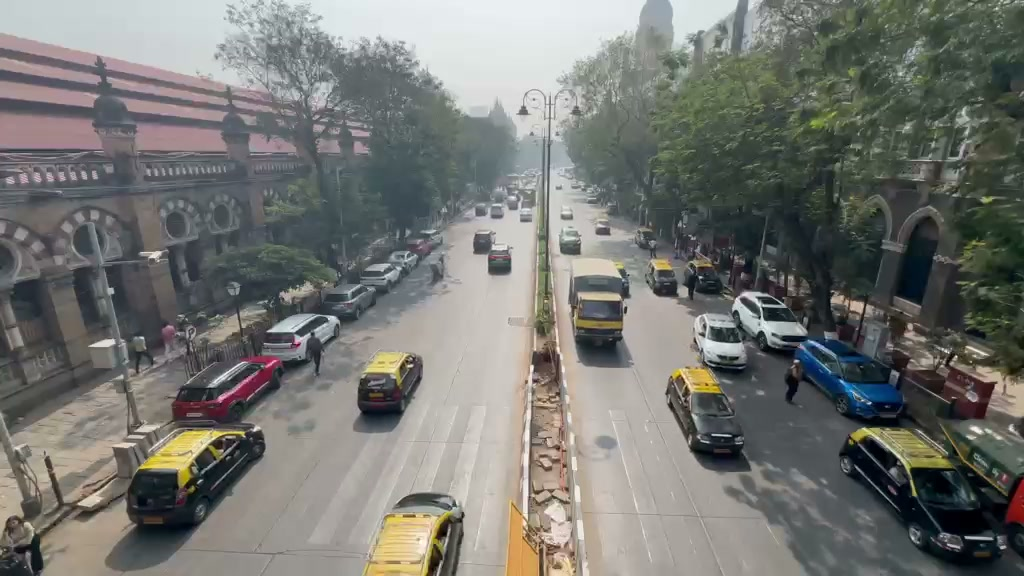car: (837, 424, 1003, 565), (125, 425, 266, 529), (785, 336, 907, 423), (361, 491, 466, 575), (170, 354, 284, 425), (664, 364, 746, 458), (730, 291, 810, 353), (260, 312, 341, 367), (356, 350, 424, 415), (691, 312, 750, 372), (319, 281, 377, 322), (358, 262, 403, 294), (645, 256, 678, 297), (691, 271, 725, 295), (487, 244, 513, 275), (559, 226, 583, 255), (387, 250, 419, 271), (472, 229, 495, 255), (518, 206, 534, 222), (595, 222, 610, 236)
pedestrian: (129, 333, 153, 375), (784, 359, 803, 405)
truck: (570, 269, 627, 345)
